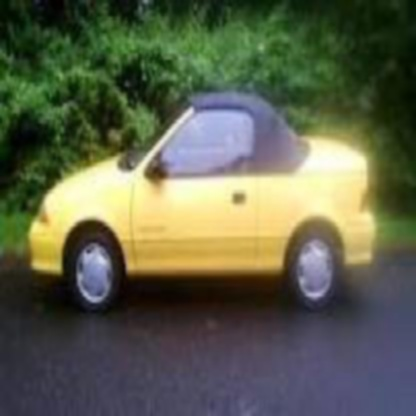Vehicle: (28, 86, 378, 303)
